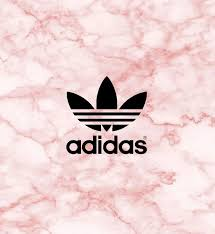adidas: (64, 76, 148, 155)
